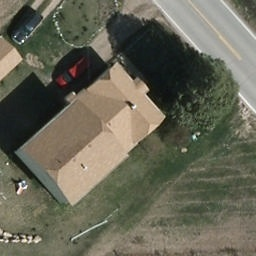car: (9, 10, 45, 46)
pickup: (57, 55, 99, 89)
